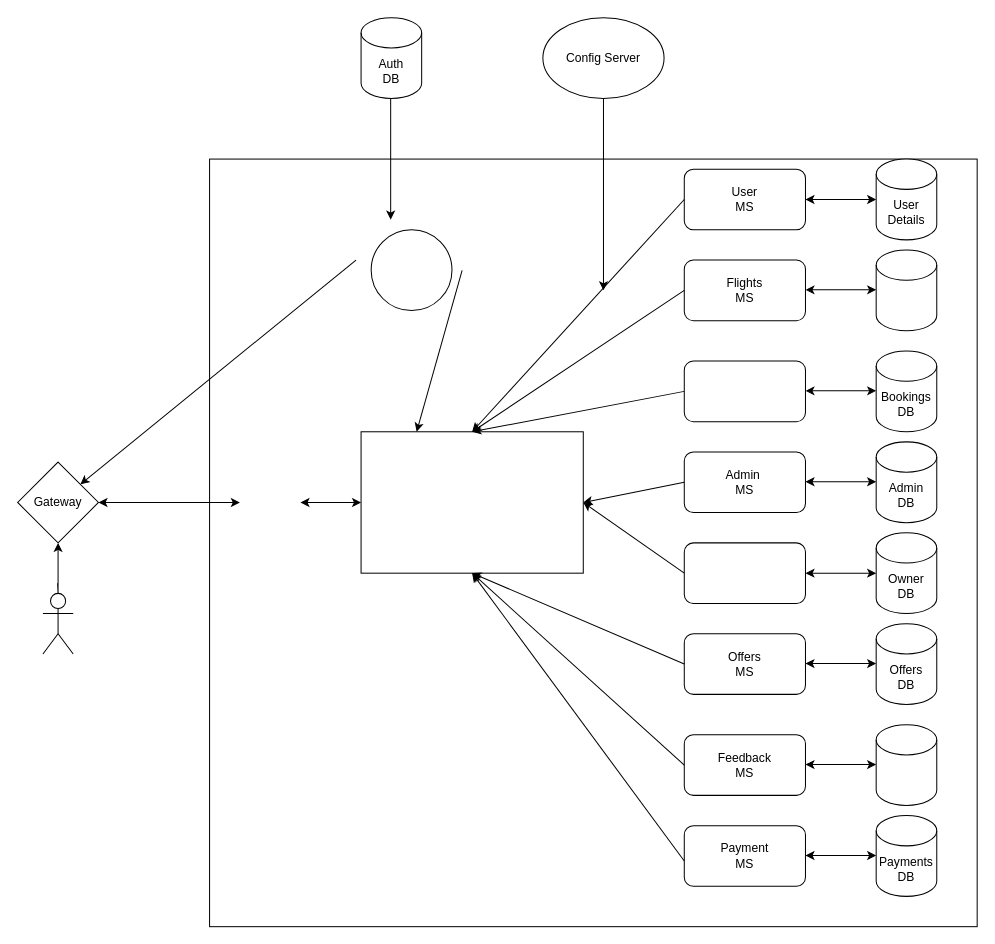
Image size: 995x944. Some labels were removed from this diagram. Here are the shapes that lost their labels. From the top down, the centre of each, then its label:
At pixel 411 270: "Login Auth".
At pixel 906 290: "Flights DB".
At pixel 744 391: "Bookings MS".
At pixel 471 502: "Registry".
At pixel 744 572: "Owner Services".
At pixel 57 623: "Actor".
At pixel 906 764: "Feedback DB".
